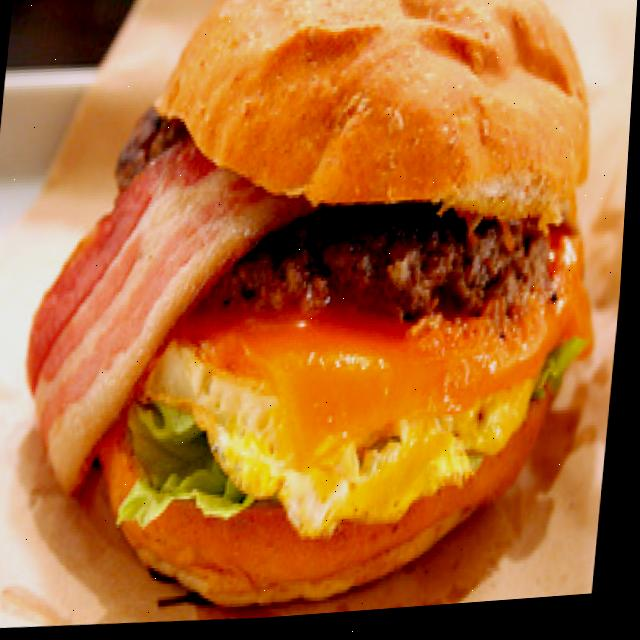汉堡快餐: (0, 0, 628, 638)
